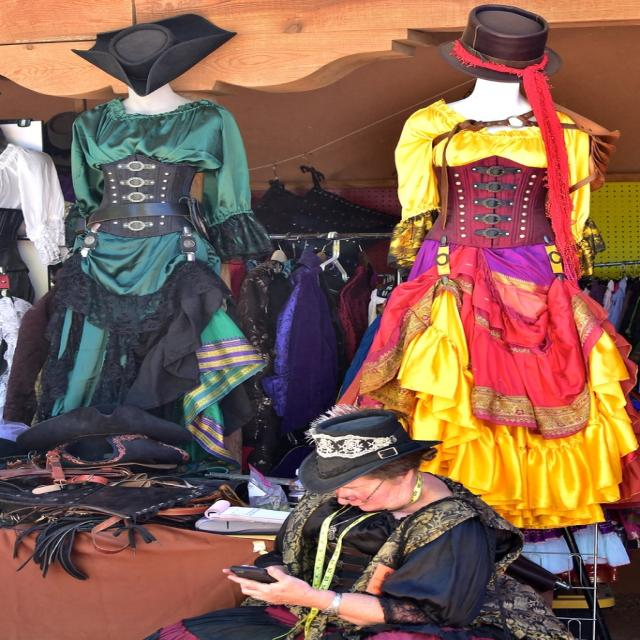Hat: (0, 401, 206, 585), (62, 13, 246, 96), (300, 408, 443, 496), (440, 2, 560, 84)
